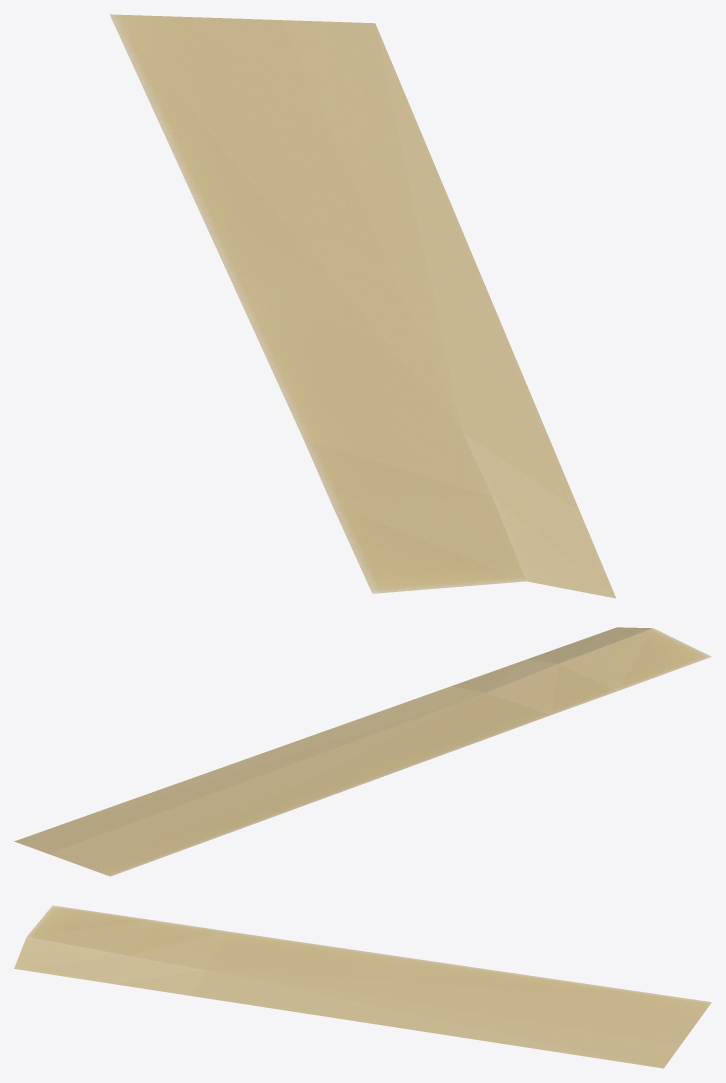
Rendered from Car_Park_01.fbx.
3 renders of one model, top to bottom at view 1: azimuth 30°, elevation 25°; view 2: azimuth 150°, elevation 25°; view 3: azimuth 270°, elevation 25°, orthographic. The views are drawn at different scales.
Parts seen in each view (by area): view 1: Car_Park_01; view 2: Car_Park_01; view 3: Car_Park_01.
Part boxes in pixels (x1,y1,x2,y2): Car_Park_01: [109, 14, 616, 598]; Car_Park_01: [14, 627, 711, 876]; Car_Park_01: [14, 905, 711, 1068].
Size of the model in its own units: 14.06 by 0.5822 by 27.67.
1 material, 1 textured.
